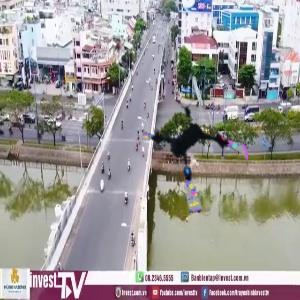drone: (141, 98, 257, 214)
